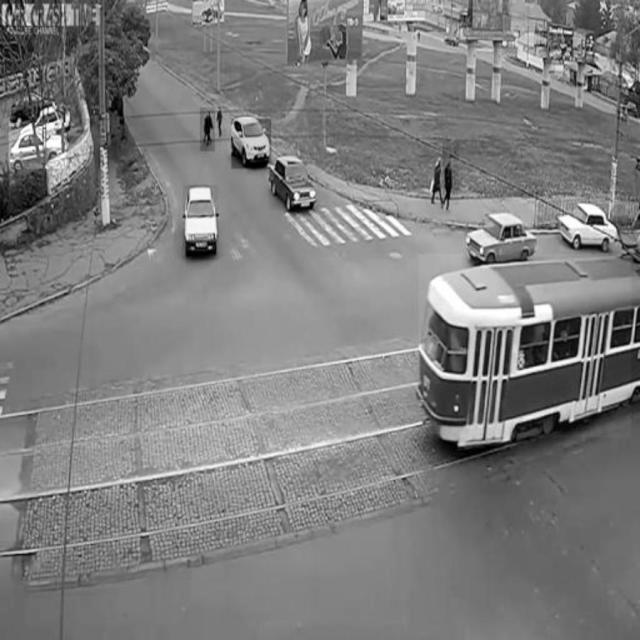person: (429, 143, 444, 213), (443, 146, 459, 204), (200, 108, 215, 152), (216, 101, 226, 146)
vehicle: (419, 254, 631, 438), (467, 213, 539, 270), (183, 185, 219, 261), (561, 203, 618, 251), (10, 123, 67, 169), (269, 158, 319, 210), (232, 120, 272, 170)
